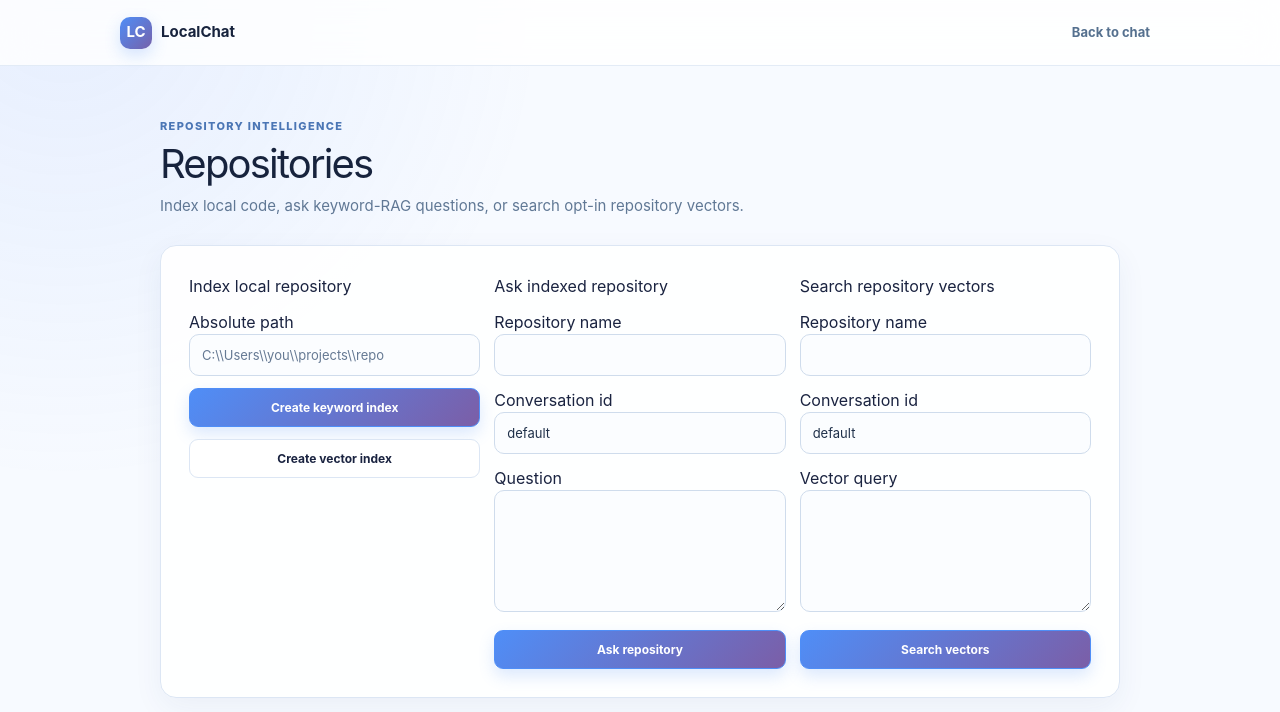
Test: RepositoryPage › indexes, asks, vector-indexes, and vector-searches repositories
This screenshot has width=1280, height=712.
Step 1. Type "C:\\Users\\naran\\sample-repo" into the field labelled "Absolute path" → (335, 355), box x1=189 y1=334 x2=480 y2=376
Step 2. Click the button "Create keyword index" → (335, 408), box x1=189 y1=388 x2=480 y2=427
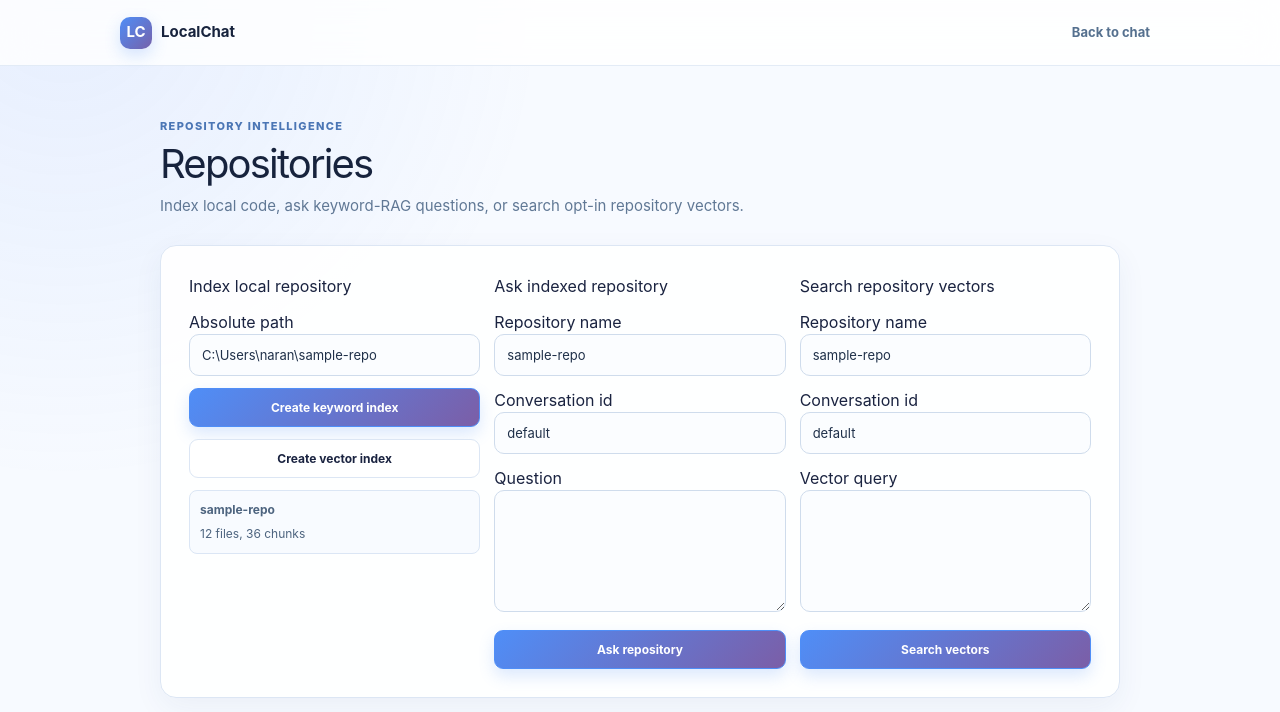
Expected: the text "sample-repo" is shown, x1=200 y1=502 x2=275 y2=517
Expected: the text "12 files, 36 chunks" is shown, x1=200 y1=526 x2=305 y2=541
Step 3. Type "Where is routing?" into the text box labelled "Question" → (640, 551), box x1=494 y1=490 x2=786 y2=612
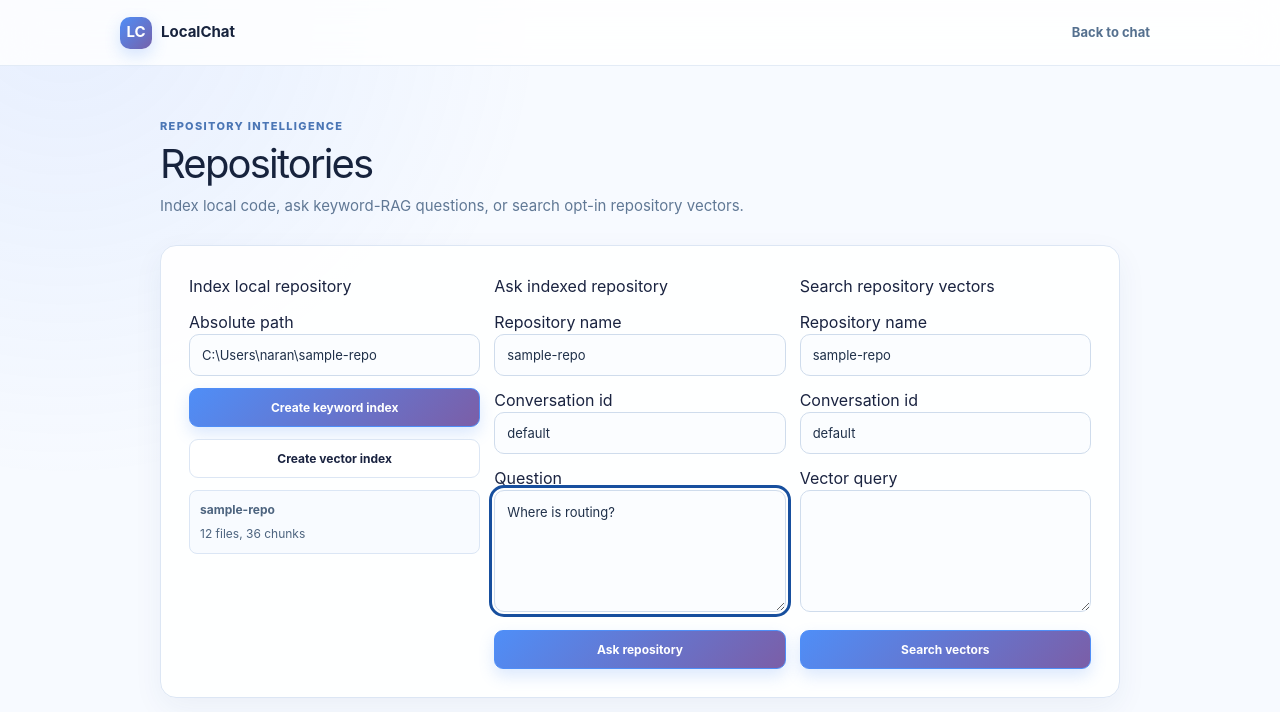
Step 4. Click the button "Ask repository" → (640, 650), box x1=494 y1=630 x2=786 y2=669
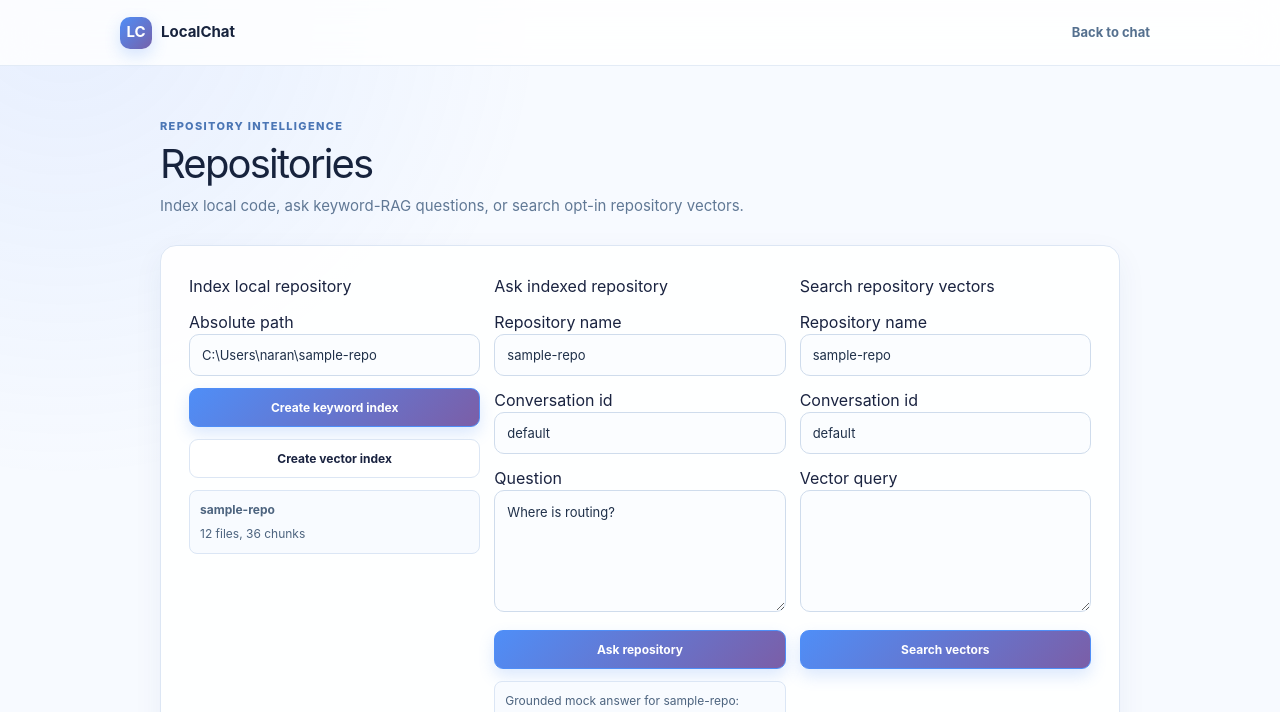
Step 5. Click the button "Create vector index" → (335, 458), box x1=189 y1=439 x2=480 y2=478
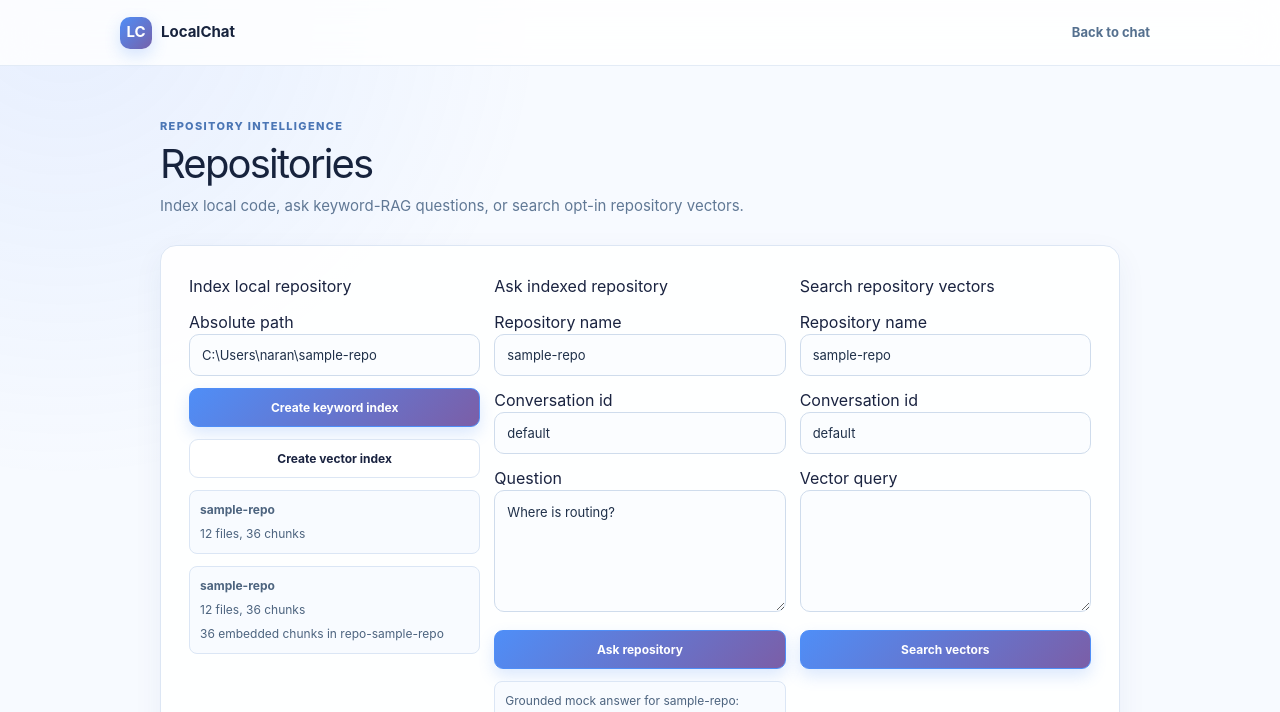
Expected: the text "36 embedded chunks in repo-sample-repo" is shown, x1=200 y1=625 x2=469 y2=643
Step 6. Type "banana" into the text box labelled "Vector query" → (945, 551), box x1=800 y1=490 x2=1091 y2=612
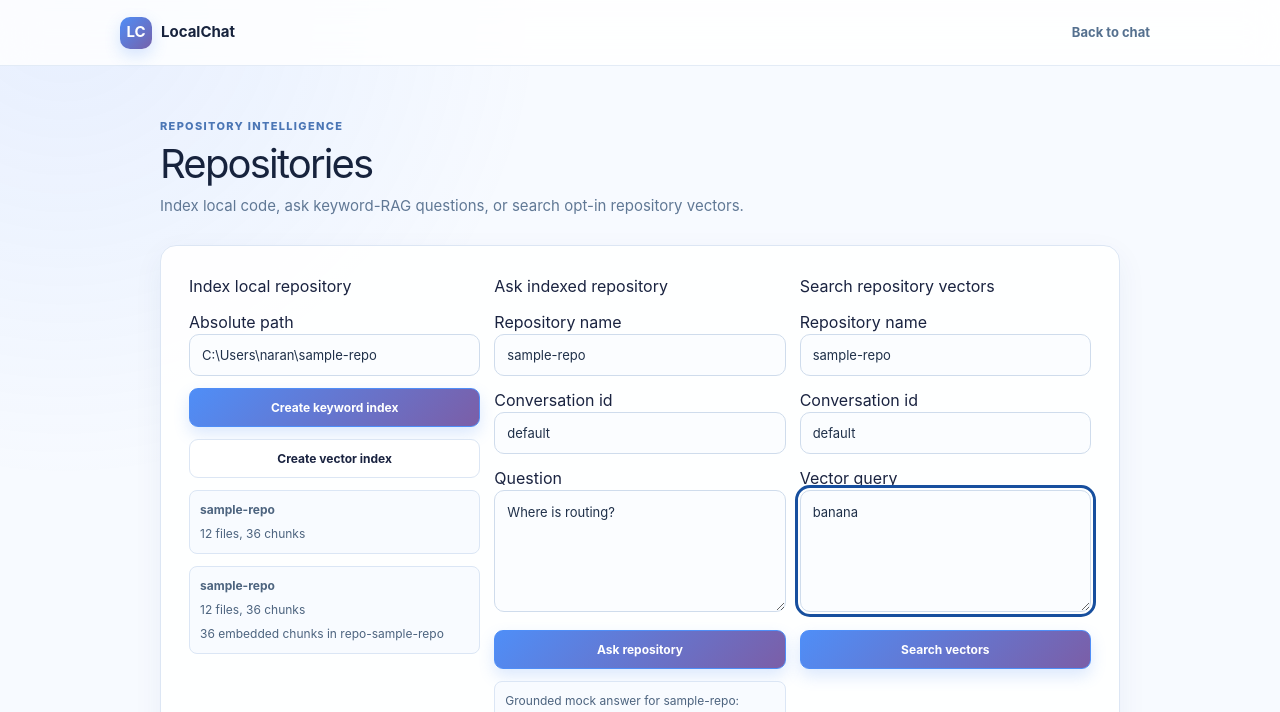
Step 7. Click the button "Search vectors" → (945, 650), box x1=800 y1=630 x2=1091 y2=669
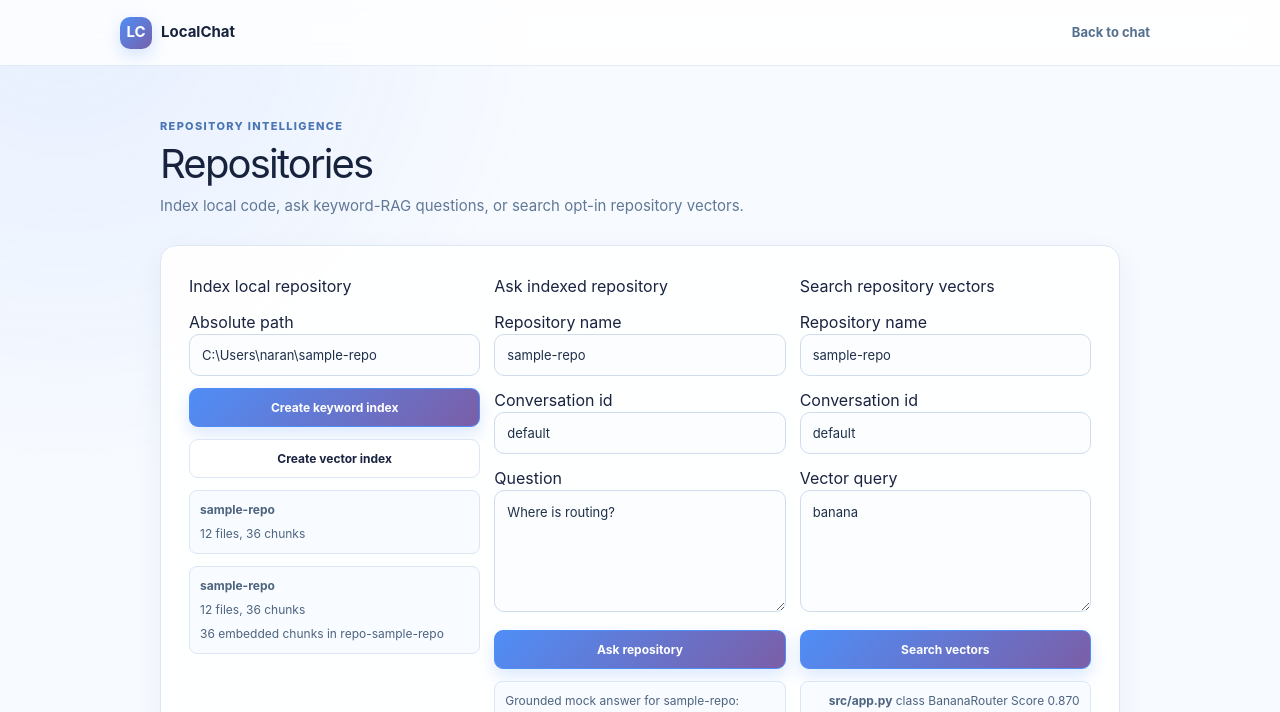
Expected: the text "src/app.py" is shown, x1=829 y1=693 x2=892 y2=708
Expected: the text "Score 0.870" is shown, x1=1008 y1=693 x2=1080 y2=708
